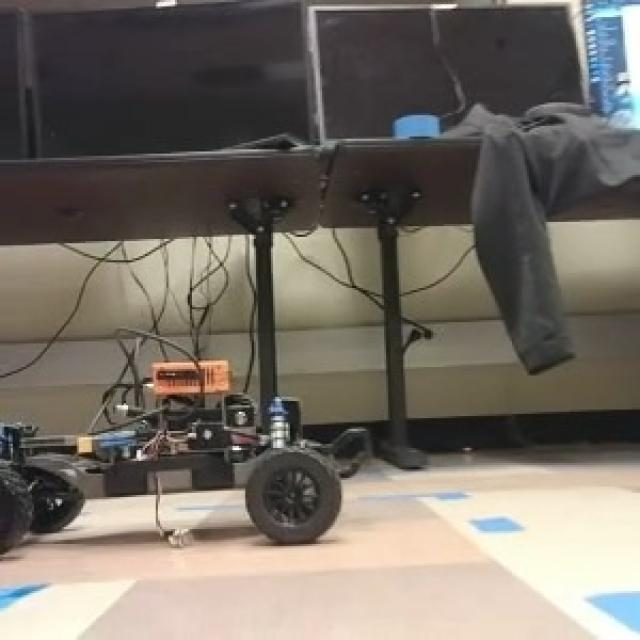obstacle: (25, 359, 343, 547)
